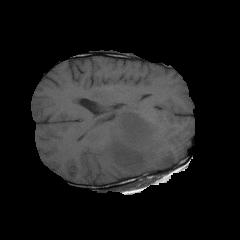glioma: (103, 104, 175, 173)
